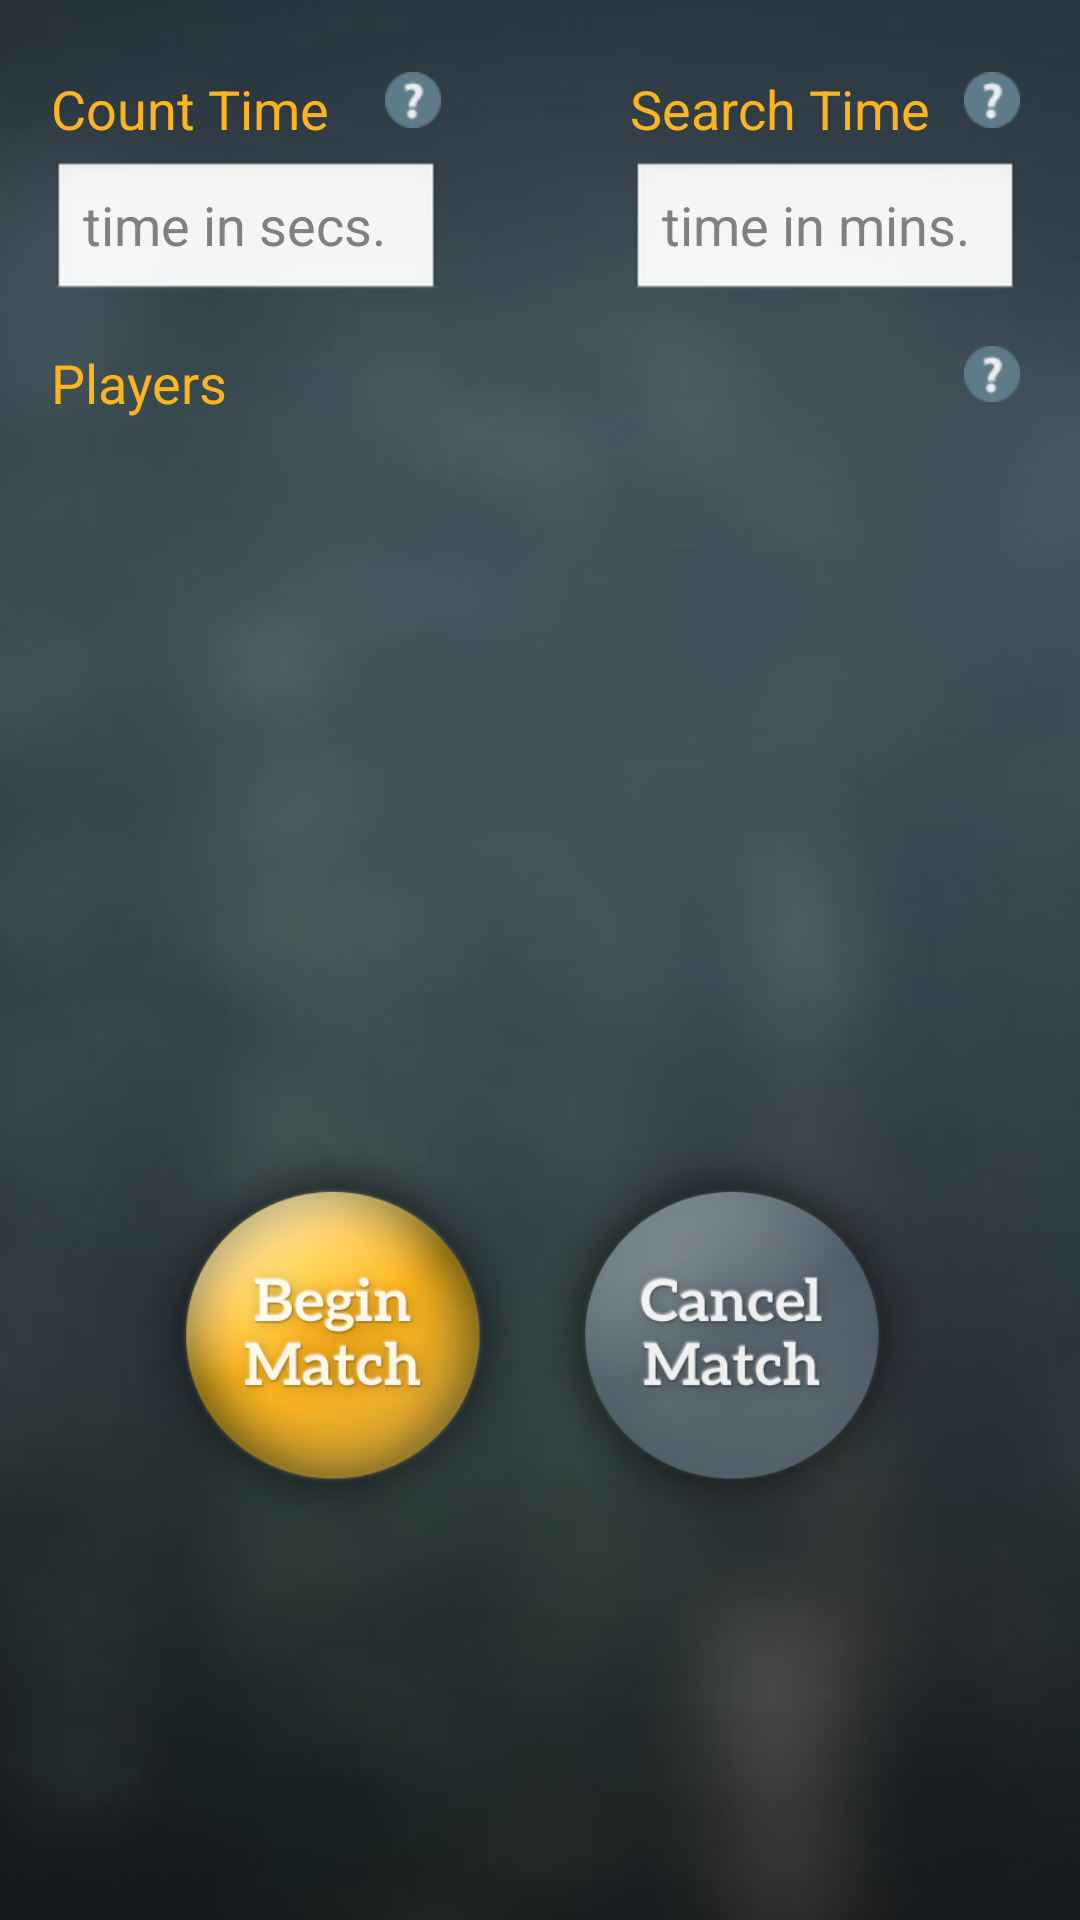

Icon click points for this 1080×1920 phone screenshot, format (x,y):
help: (413,100), (992,100), (992,374)
